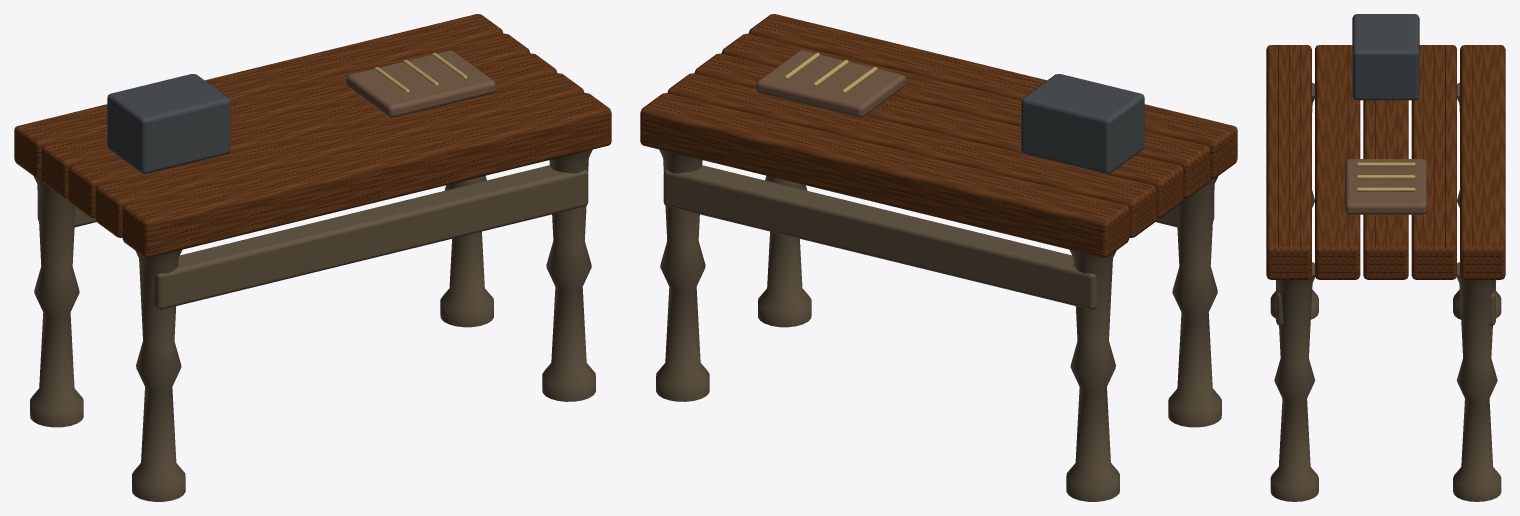
The model's file is undercity-sewers-and-thieves-den-lockpick-bench-35267ae5__27235.glb.
The picture shows the model from 3 angles, left to right: view 1: azimuth 30°, elevation 25°; view 2: azimuth 150°, elevation 25°; view 3: azimuth 270°, elevation 25°; orthographic projection. The views are drawn at different scales.
Visible parts, largest first — view 1: lockpick-bench; view 2: lockpick-bench; view 3: lockpick-bench.
Part boxes in pixels (x1,y1,x2,y2): lockpick-bench: (14, 14, 611, 501); lockpick-bench: (640, 14, 1237, 501); lockpick-bench: (1266, 14, 1505, 501).
Bounding box in the file's own units: 1.3 × 0.91 × 0.642.
Materials: 5 (1 with a texture image).
